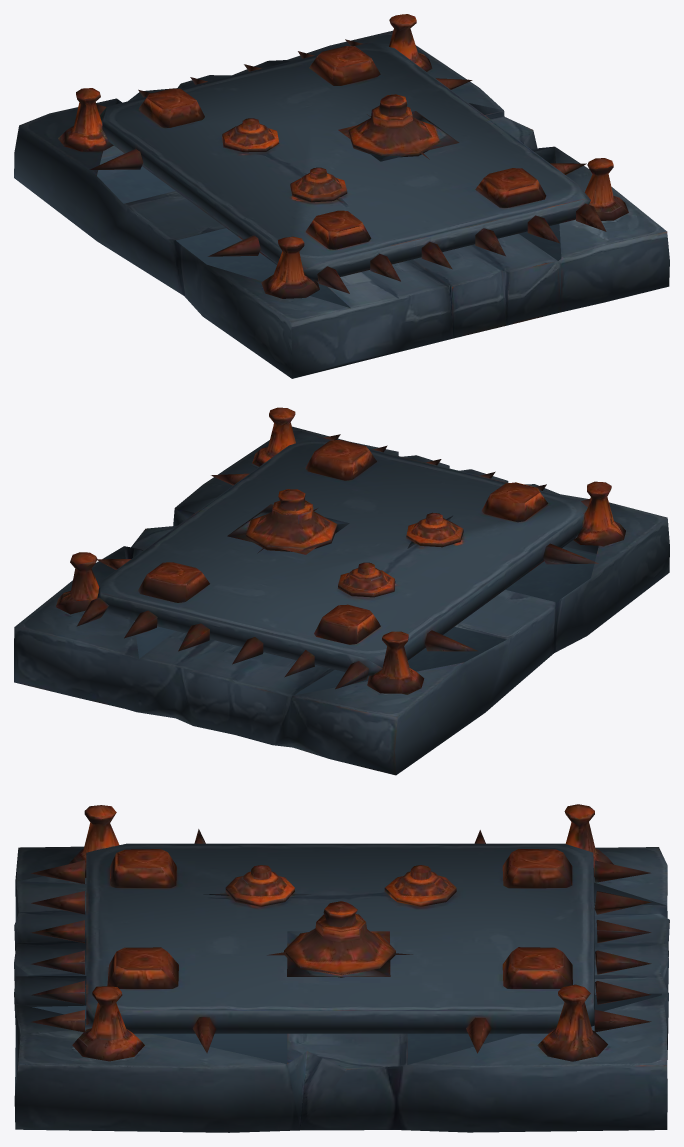
File: spikeTrap.glb
3 views of the same model, one above another, from view 1: azimuth 30°, elevation 25°; view 2: azimuth 150°, elevation 25°; view 3: azimuth 270°, elevation 25° (orthographic). The views are drawn at different scales.
Size of the model in its own units: 0.7769 by 0.2339 by 0.957.
Materials: 1 (1 with a texture image).
